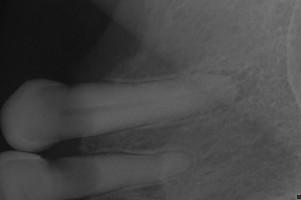Furcation Involvement: (207, 65, 260, 103)
